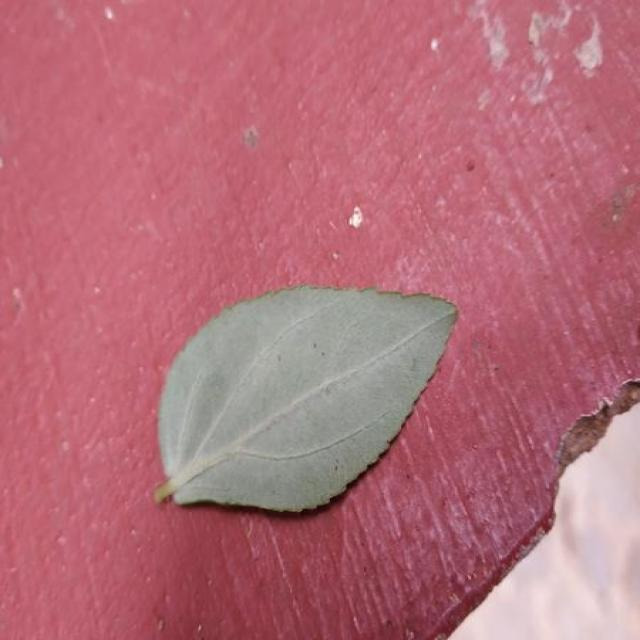Astma_weed: (155, 286, 457, 511)
